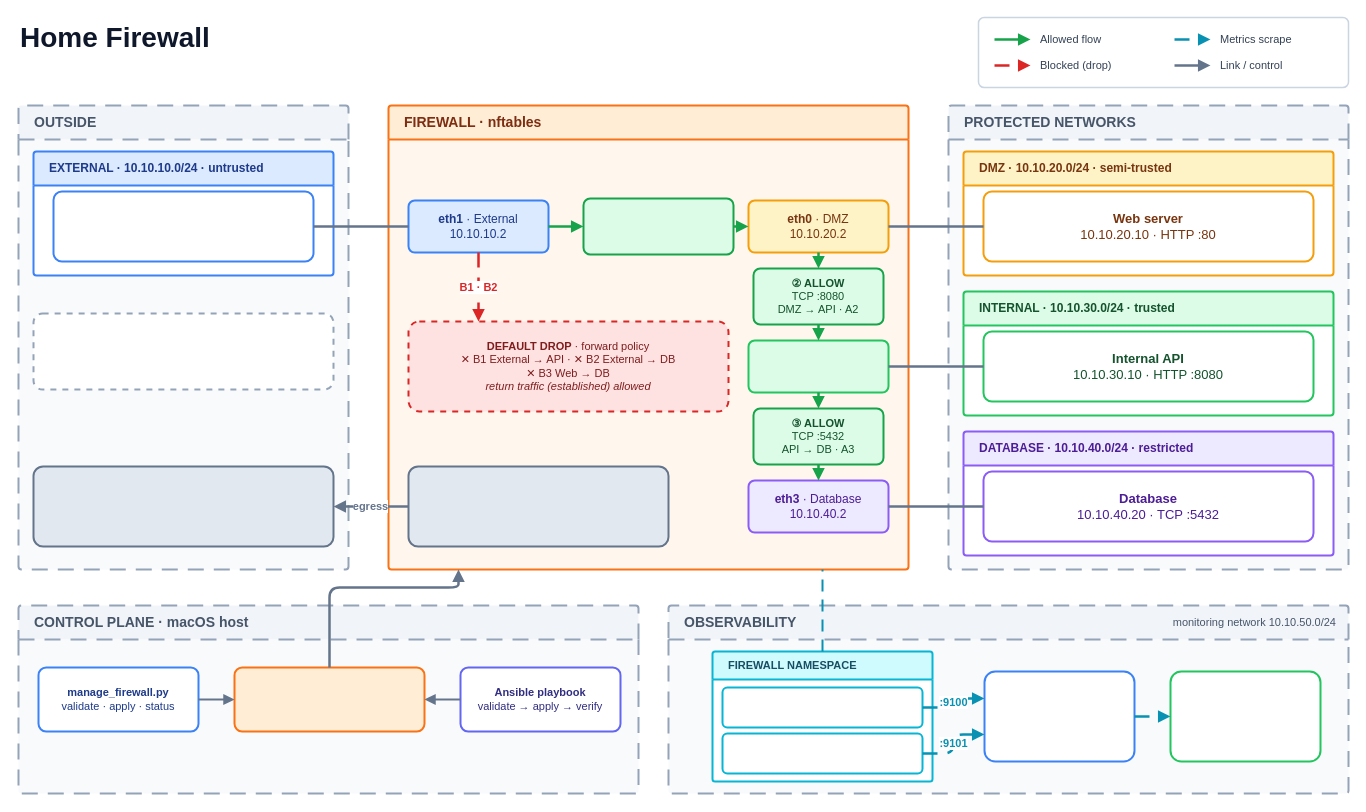
Image size: 1366x812. Some labels were removed from this diagram. Here are the shapes that lost their labels. From the top down, the centre of each, then its label:
At (183,226): "External client 10.10.10.10".
At (658,226): "① DNAT + SNAT :8080 → :80 External → Web · A1".
At (183,351): "Inbound entry point 10.10.10.2 : 8080 DNAT → web server :80".
At (818,366): "eth2 · Internal 10.10.30.2".
At (183,506): "Internet via gateway 10.10.10.1".
At (538,506): "④ Egress ALLOW · DMZ + Internal TCP 80/443 · DNS 53 masquerade out via eth1".
At (329,699): "configs/nftables.conf firewall policy source".
At (822,707): "Node Exporter :9100 interface counters".
At (1059,716): "Prometheus :9090 DMZ + monitoring net scrapes 10.10.20.2".
At (1245,716): "Grafana :3000 dashboards drop-burst alert".
At (822,753): "Firewall exporter :9101 nftables counters".
